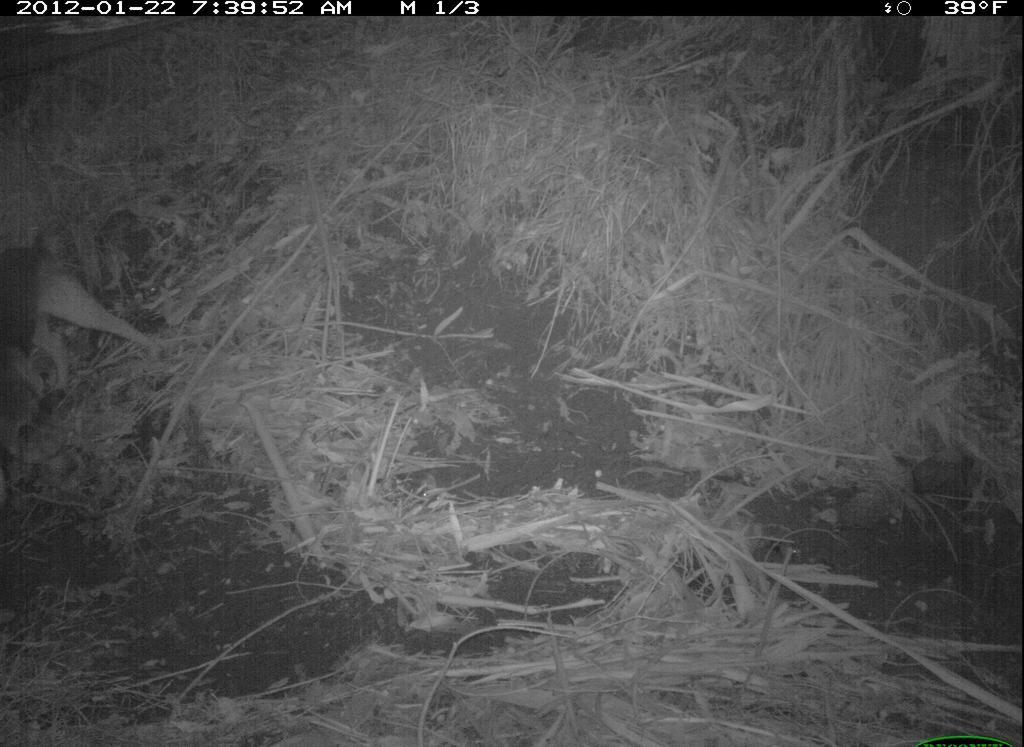dog: (7, 223, 176, 441)
